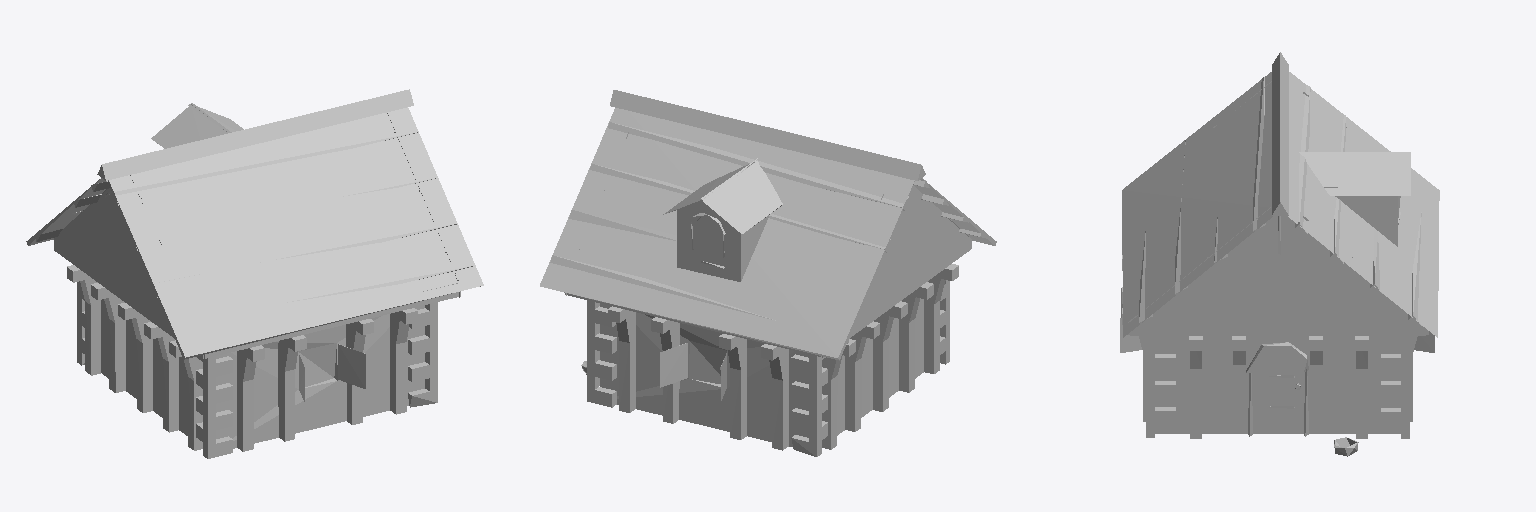
The model's file is casa_1.obj.
3 views of the same model, side by side, from view 1: azimuth 30°, elevation 25°; view 2: azimuth 150°, elevation 25°; view 3: azimuth 270°, elevation 25° (orthographic).
Visible parts, largest first — view 1: Base_Casa; view 2: Base_Casa; view 3: Base_Casa.
Part boxes in pixels (left/top/right/bottom): Base_Casa: left=26, top=89, right=483, bottom=458; Base_Casa: left=540, top=90, right=996, bottom=456; Base_Casa: left=1120, top=52, right=1439, bottom=456.
Size of the model in its own units: 72 by 57.63 by 64.59.